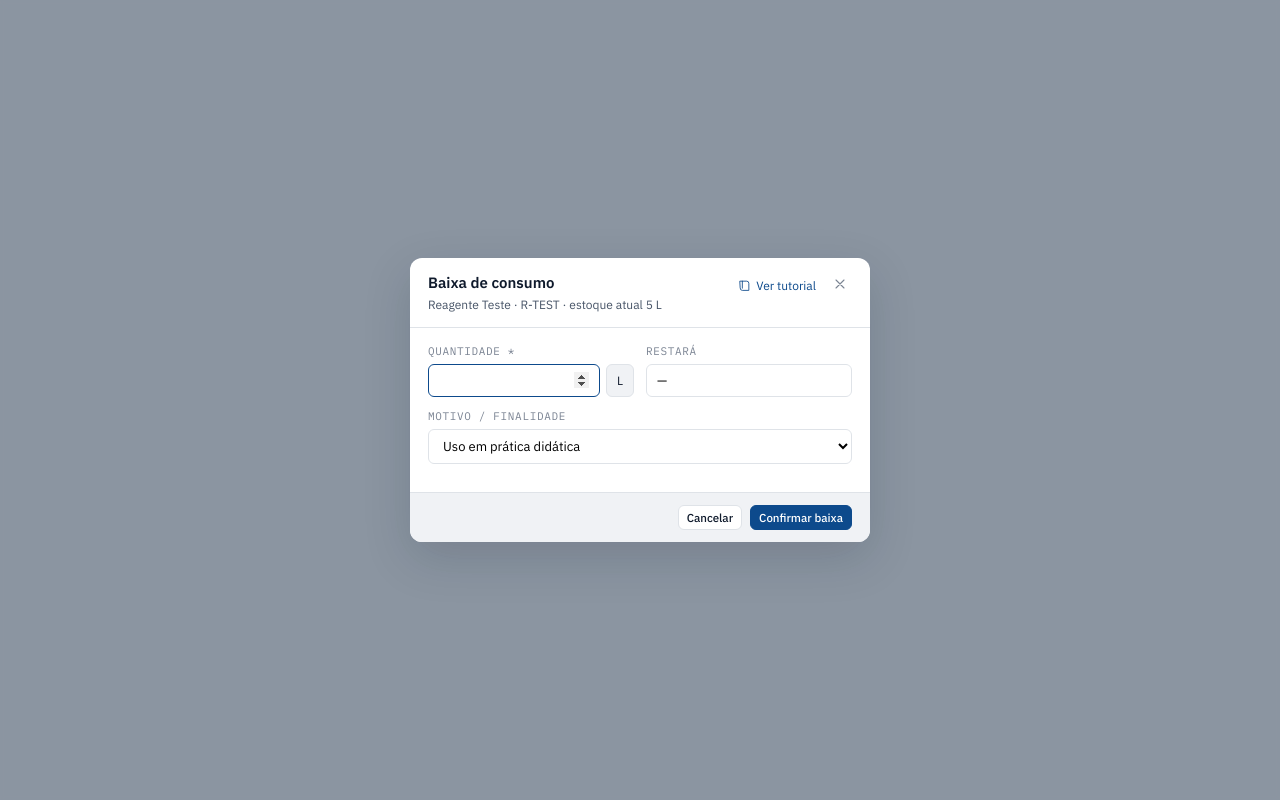
it: FormBaixa › mostra o estoque restante negativo em vez de zerar no clamp
Type "10" into the number field.
click(514, 381); type("10")  # box [428,364,600,397]
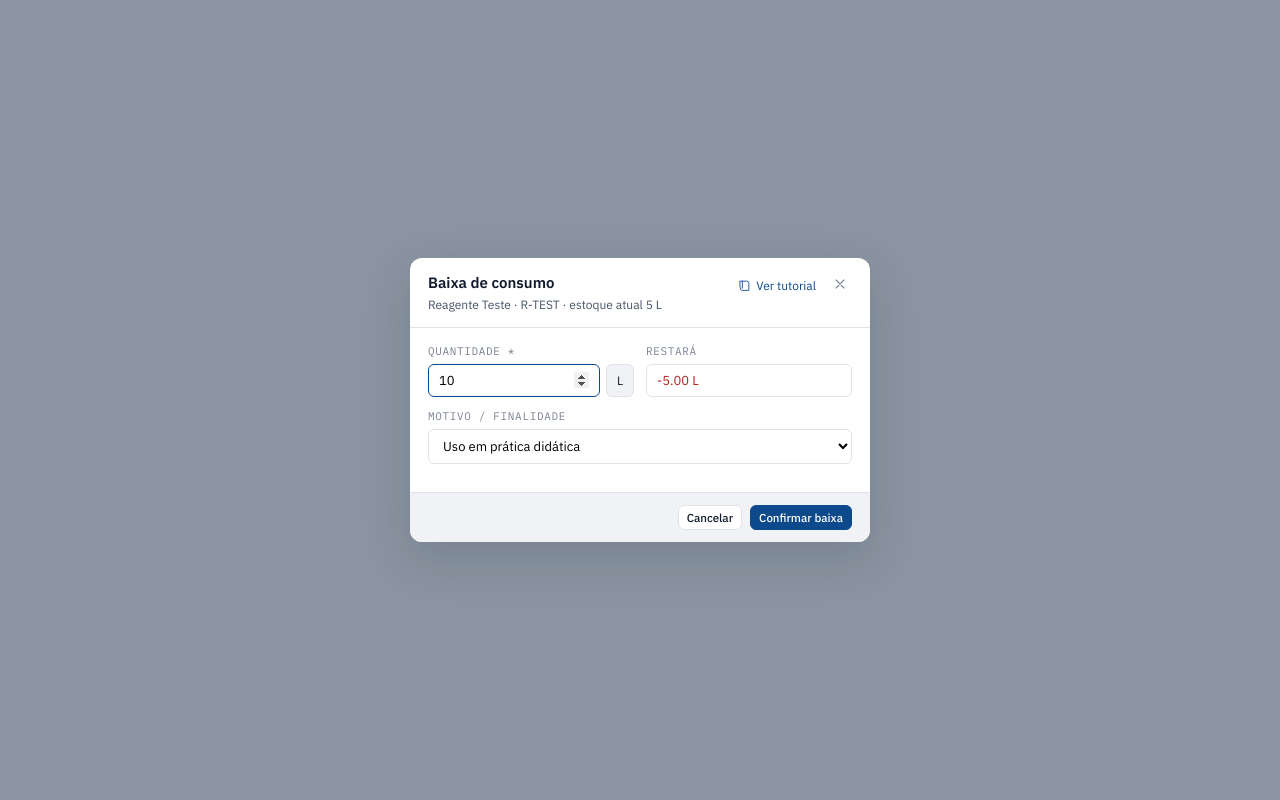
expect the field showing "-5.00 L" is shown: met, box [646,364,852,397]
